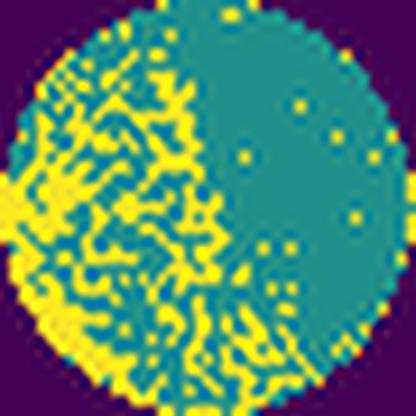Near-full: (0, 24, 330, 416)
